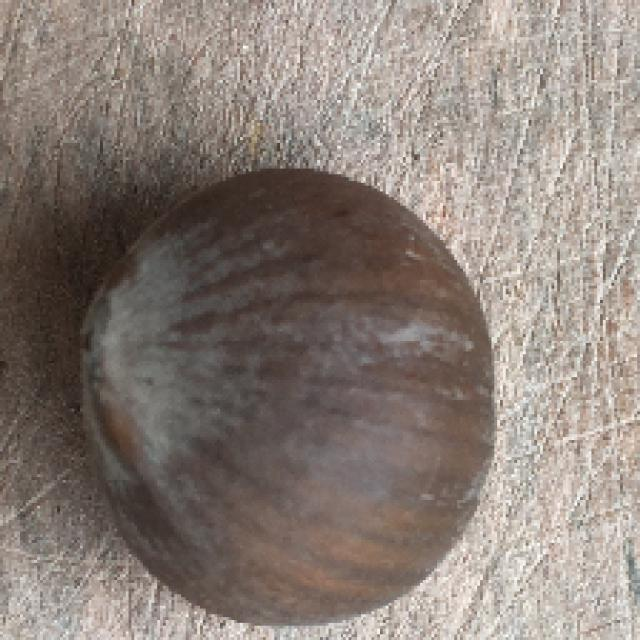qualityHazelnut: (89, 161, 498, 624)
